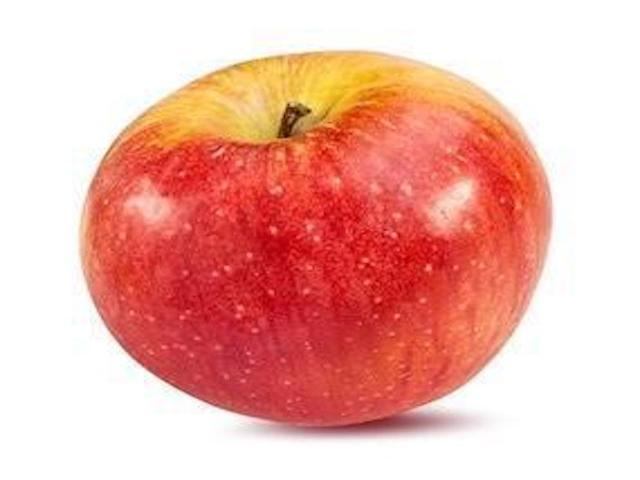apple: (73, 42, 559, 433)
